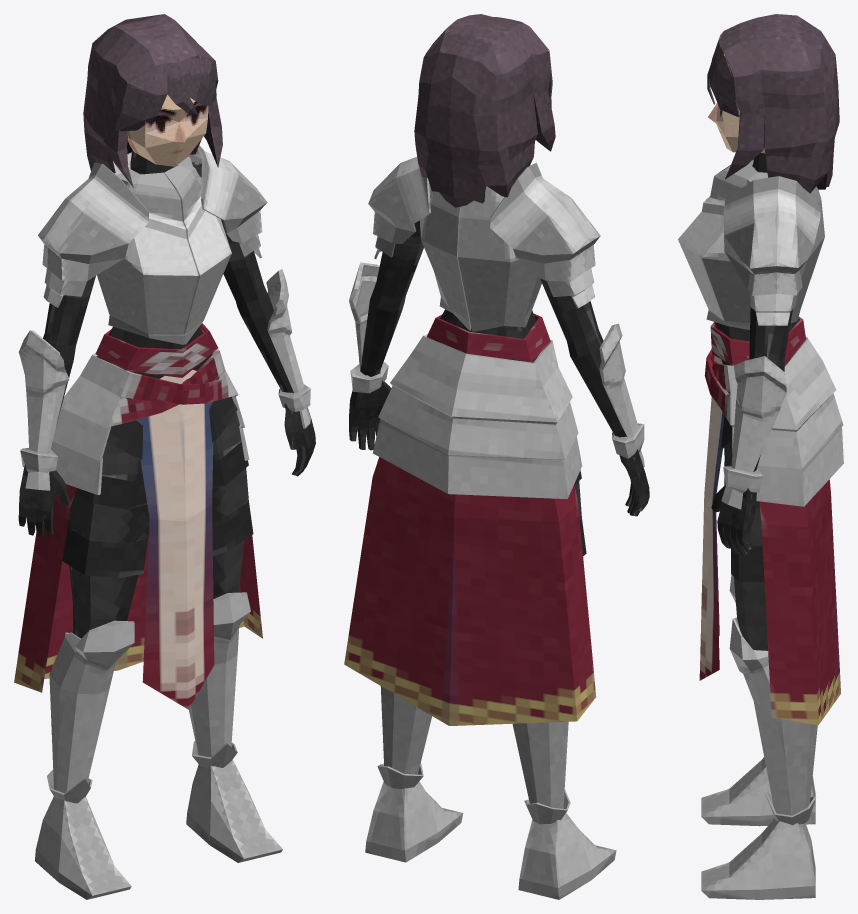
The model's file is women knight final.fbx.
The picture shows the model from 3 angles, left to right: view 1: azimuth 30°, elevation 25°; view 2: azimuth 150°, elevation 25°; view 3: azimuth 270°, elevation 25°; orthographic projection.
Parts seen in each view (by area): view 1: 8_tabard, 3_legs, 7_chest, 11_alegs, 10_shoulders, 6_feets, 9_belts, hair, 12_aarms, 4_arms, front_hair, 1_head (+2 smaller); view 2: 8_tabard, 9_belts, hair, 10_shoulders, 7_chest, 6_feets, 11_alegs, 4_arms, 12_aarms, 5_hands, 2_body; view 3: 8_tabard, hair, 9_belts, 10_shoulders, 6_feets, 7_chest, 11_alegs, 12_aarms, 3_legs, 5_hands, 4_arms, front_hair (+2 smaller).
Boxes of the visible parts, x1,y1,x2,y2 form: 8_tabard: (14,323,262,709); 3_legs: (62,396,253,638); 7_chest: (97,152,231,344); 11_alegs: (47,592,250,803); 10_shoulders: (38,145,267,307); 6_feets: (35,759,282,899); 9_belts: (51,348,249,494); hair: (83,14,222,188); 12_aarms: (18,269,310,490); 4_arms: (43,219,293,422); front_hair: (114,56,216,131); 1_head: (127,94,208,166); 8_tabard: (344,313,596,725); 9_belts: (373,333,582,498); hair: (414,14,555,207); 10_shoulders: (368,157,600,308); 7_chest: (419,184,541,331); 6_feets: (365,781,616,899); 11_alegs: (377,686,570,824); 4_arms: (360,220,627,437); 12_aarms: (349,262,644,466); 5_hands: (349,376,649,516); 2_body: (433,309,538,362); 8_tabard: (699,316,840,725); hair: (718,14,839,193); 9_belts: (704,336,843,506); 10_shoulders: (723,176,820,325); 6_feets: (701,757,815,899); 7_chest: (678,159,824,329); 11_alegs: (729,574,817,825); 12_aarms: (721,356,786,509); 3_legs: (721,415,767,650); 5_hands: (711,485,756,555); 4_arms: (749,306,792,471); front_hair: (707,31,739,117).
Size of the model in its own units: 157 by 418 by 76.15.
2 materials, 2 textured.
